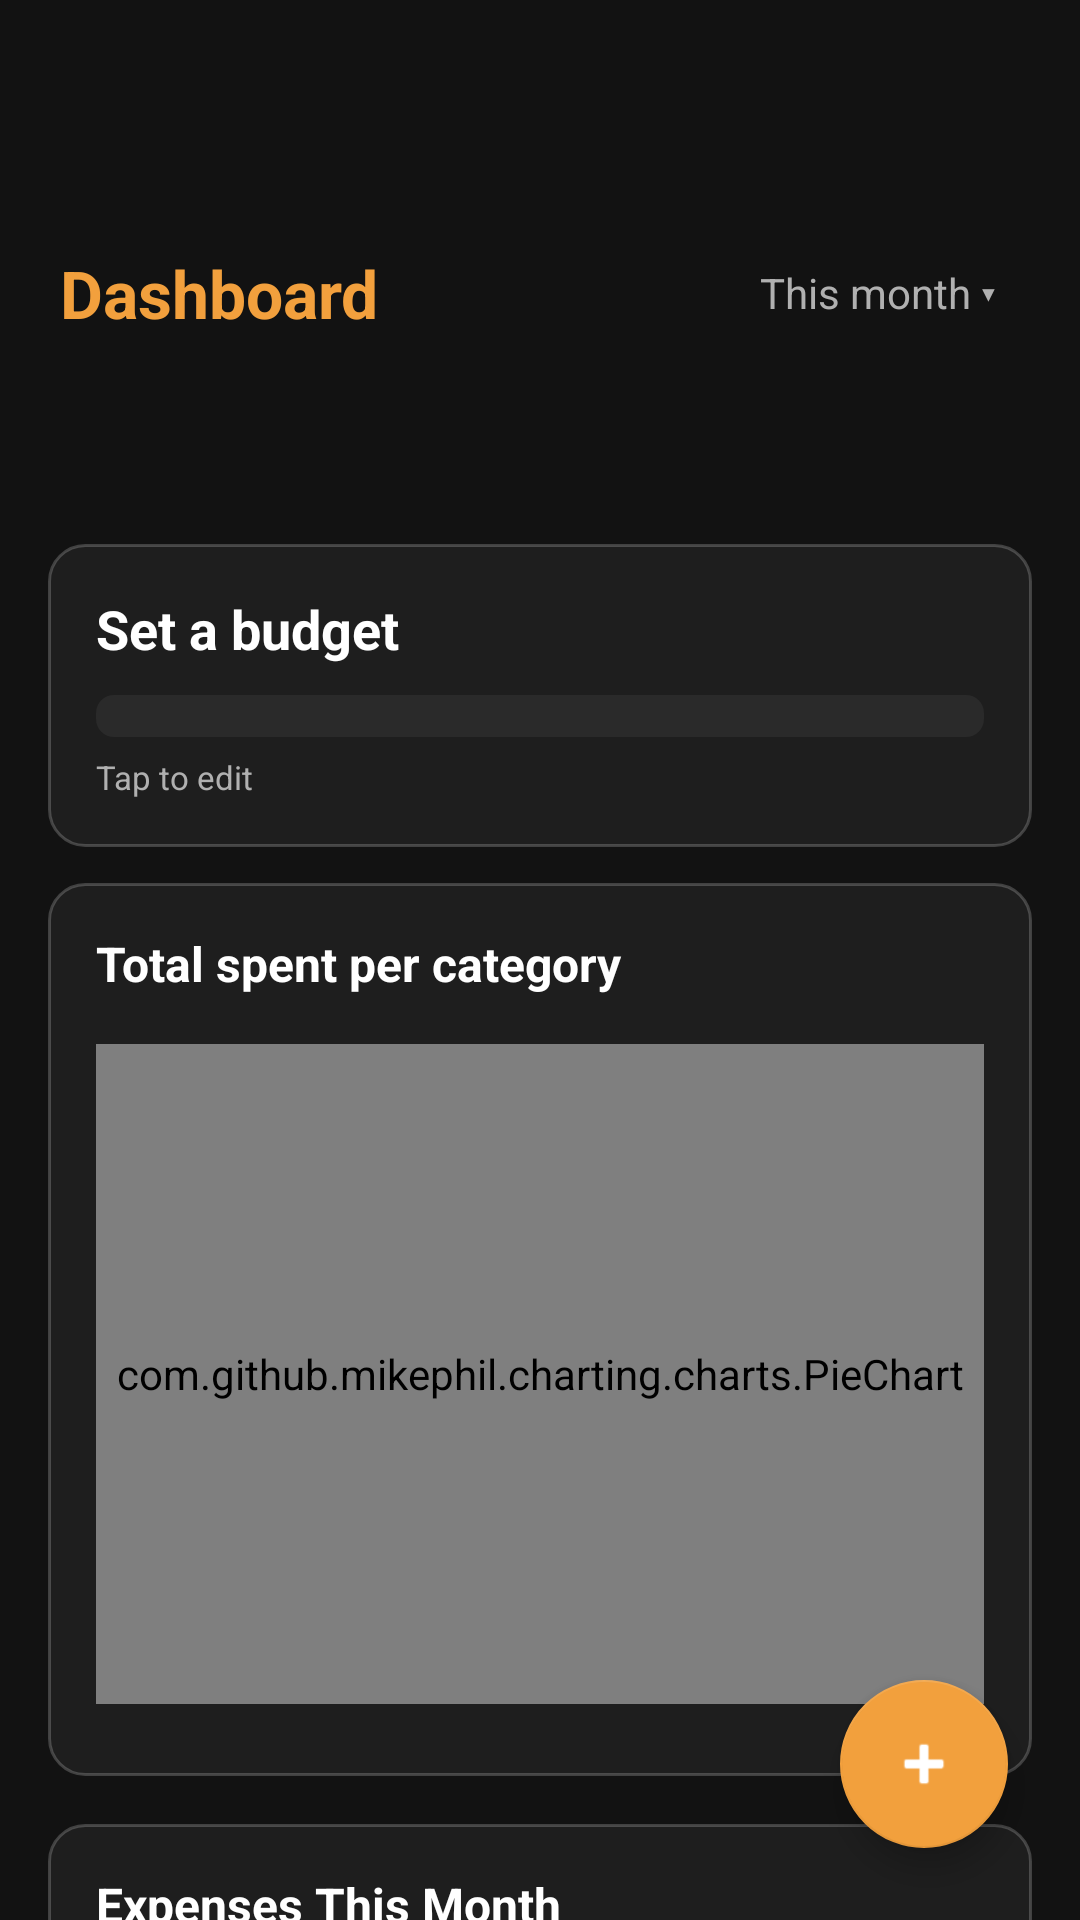

Named icons in this screenshot (1080w x 1920h) and their centers, (x,y):
Add expense: (924,1764)
